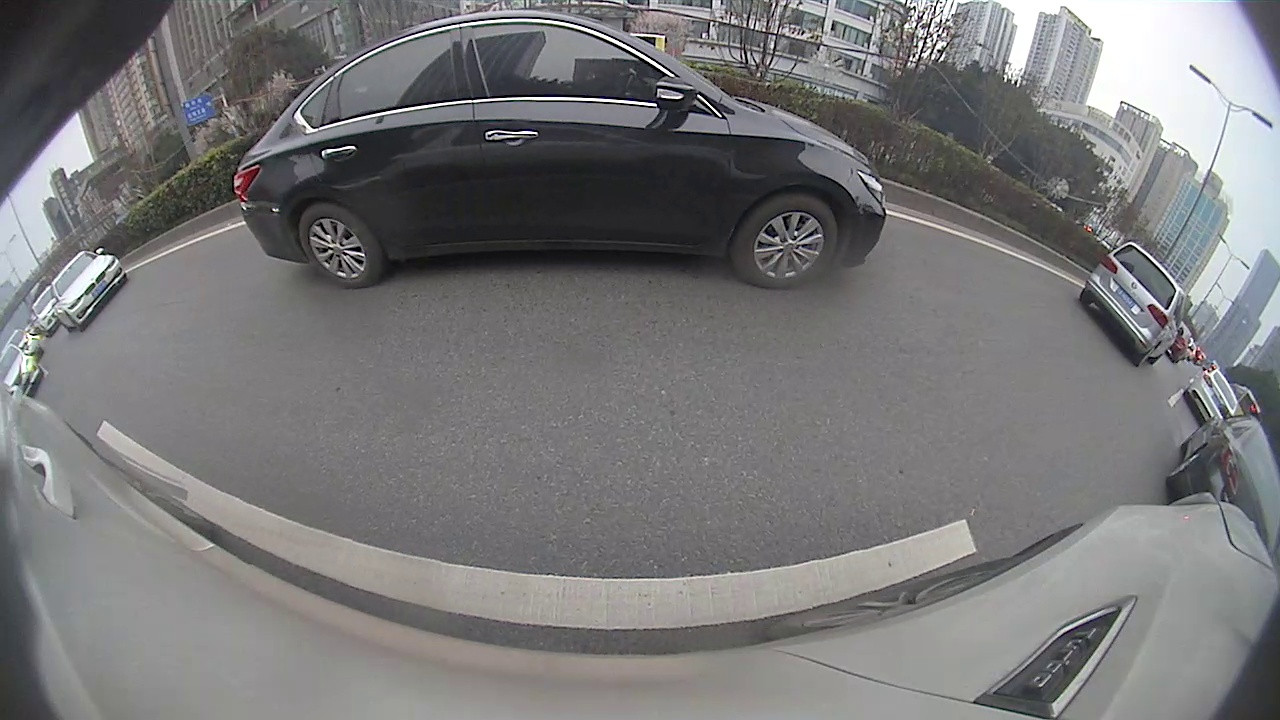car: (209, 166, 439, 265), (131, 197, 274, 336), (702, 142, 781, 202), (501, 159, 558, 182), (445, 165, 496, 189), (627, 158, 661, 184), (553, 161, 586, 182), (661, 161, 680, 176)
